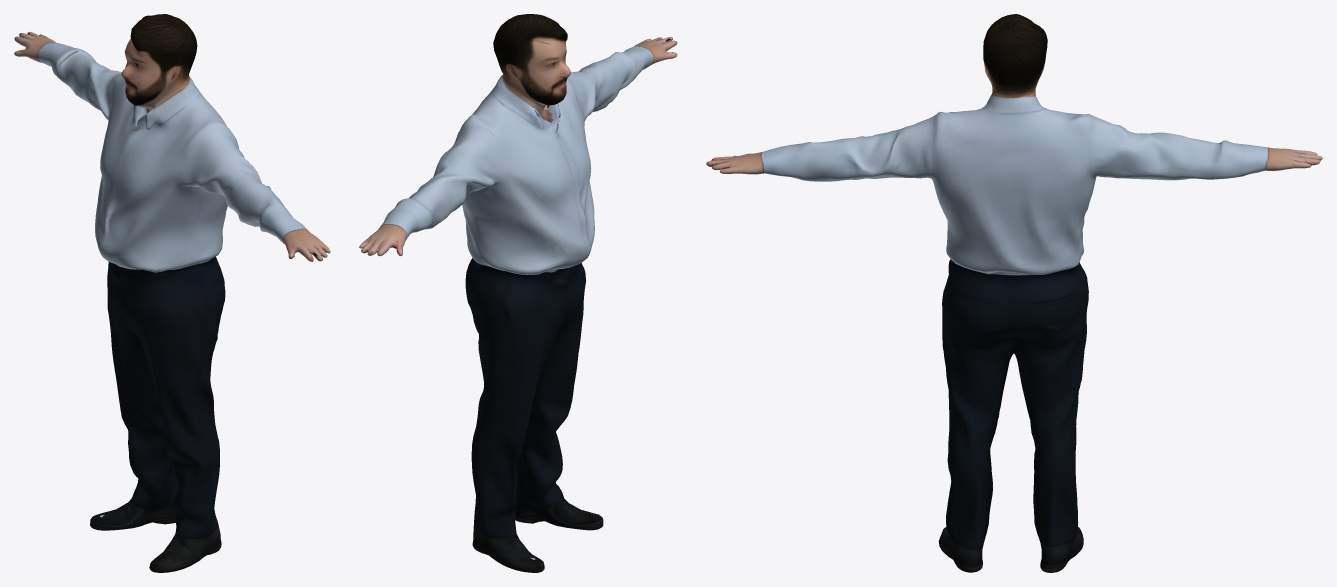
File: portrait.glb
3 views of the same model, side by side, from view 1: azimuth 30°, elevation 25°; view 2: azimuth 150°, elevation 25°; view 3: azimuth 270°, elevation 25° (orthographic). The views are drawn at different scales.
Visible parts, largest first — view 1: tripo_node_5e4da96e; view 2: tripo_node_5e4da96e; view 3: tripo_node_5e4da96e.
Part boxes in pixels (x1,y1,x2,y2): tripo_node_5e4da96e: (14, 14, 330, 572); tripo_node_5e4da96e: (359, 14, 677, 572); tripo_node_5e4da96e: (706, 14, 1322, 572).
Size of the model in its own units: 0.2136 by 0.9532 by 0.9965.
Materials: 1 (1 with a texture image).
